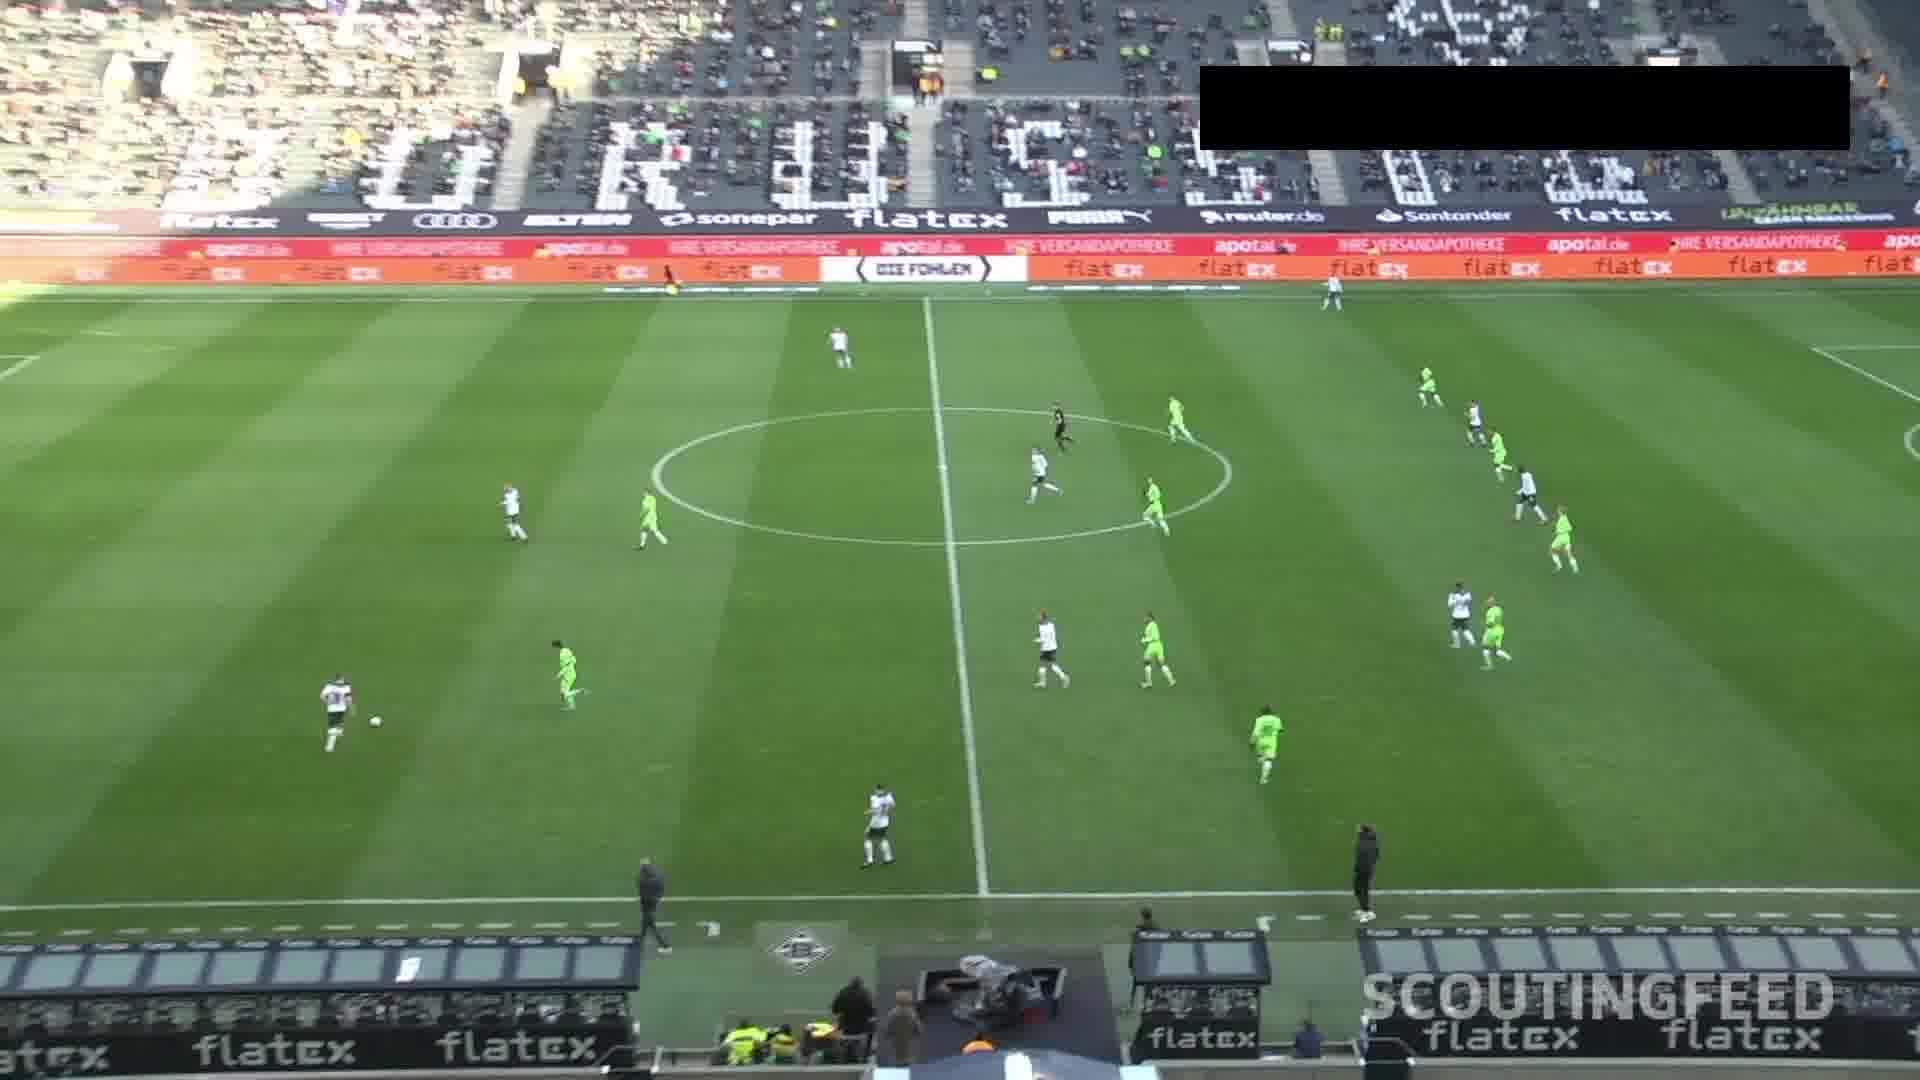football: (368, 716, 385, 728)
